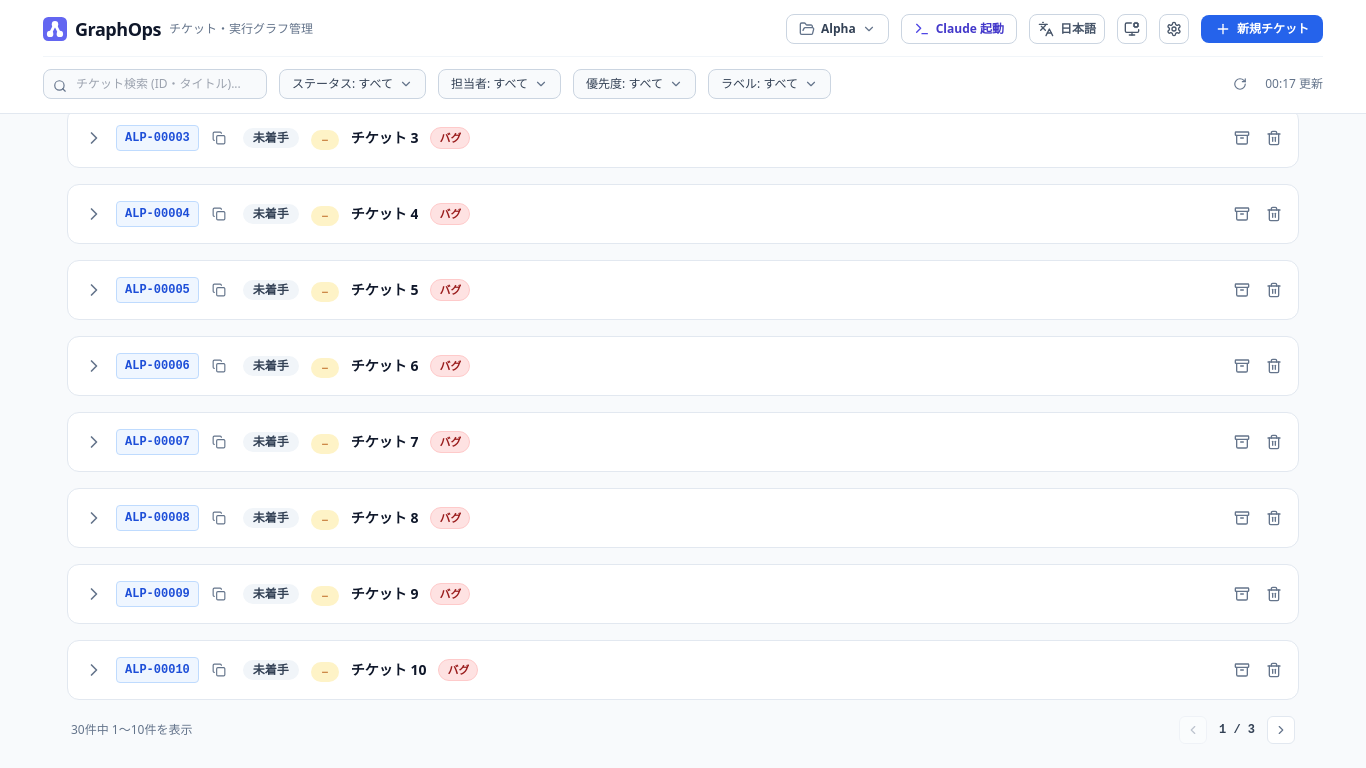
Scenario: App label filter › goes back to page 1 when the label filter changes
(page scrolled)
Click the button named "次のページ": coordinates (1281, 730) 1267,716 -> 1295,744
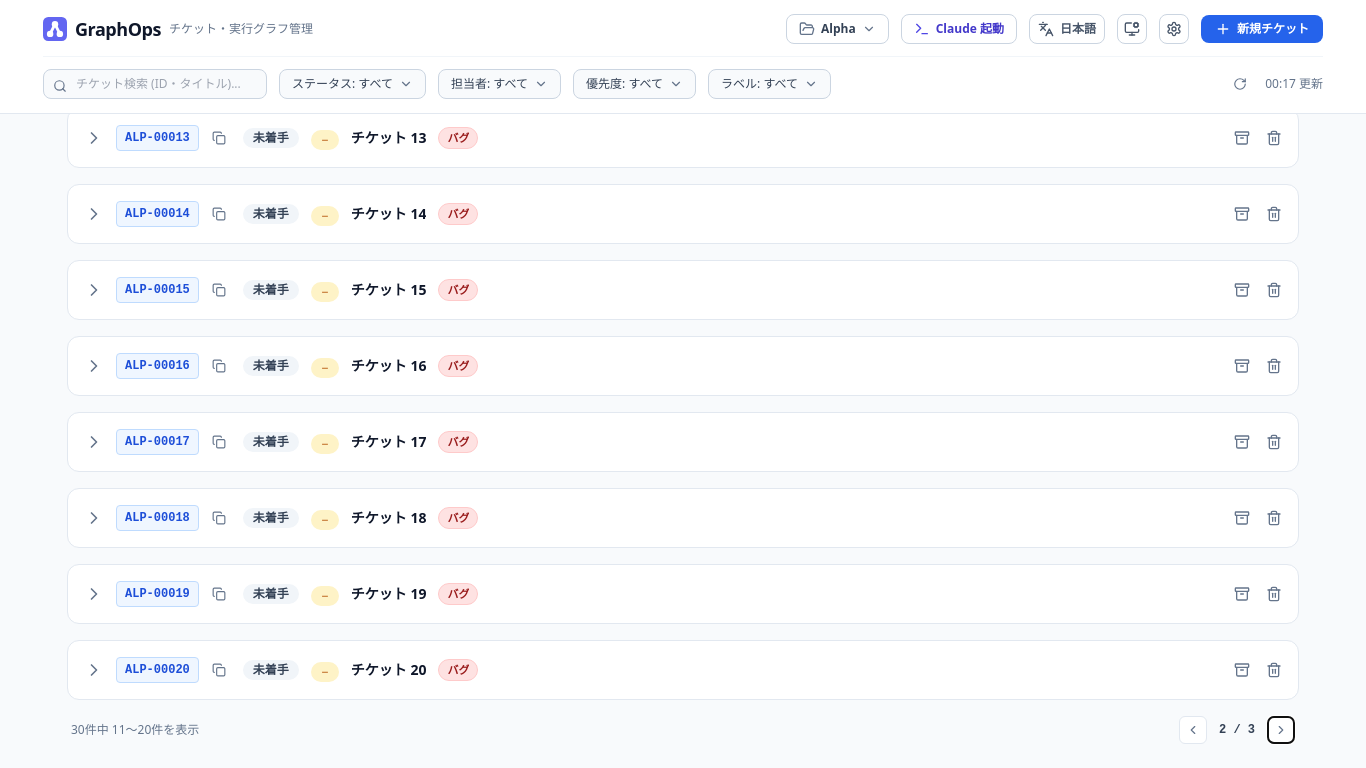
Click the button "ラベル: すべて": coordinates (770, 84) 708,69 -> 831,99
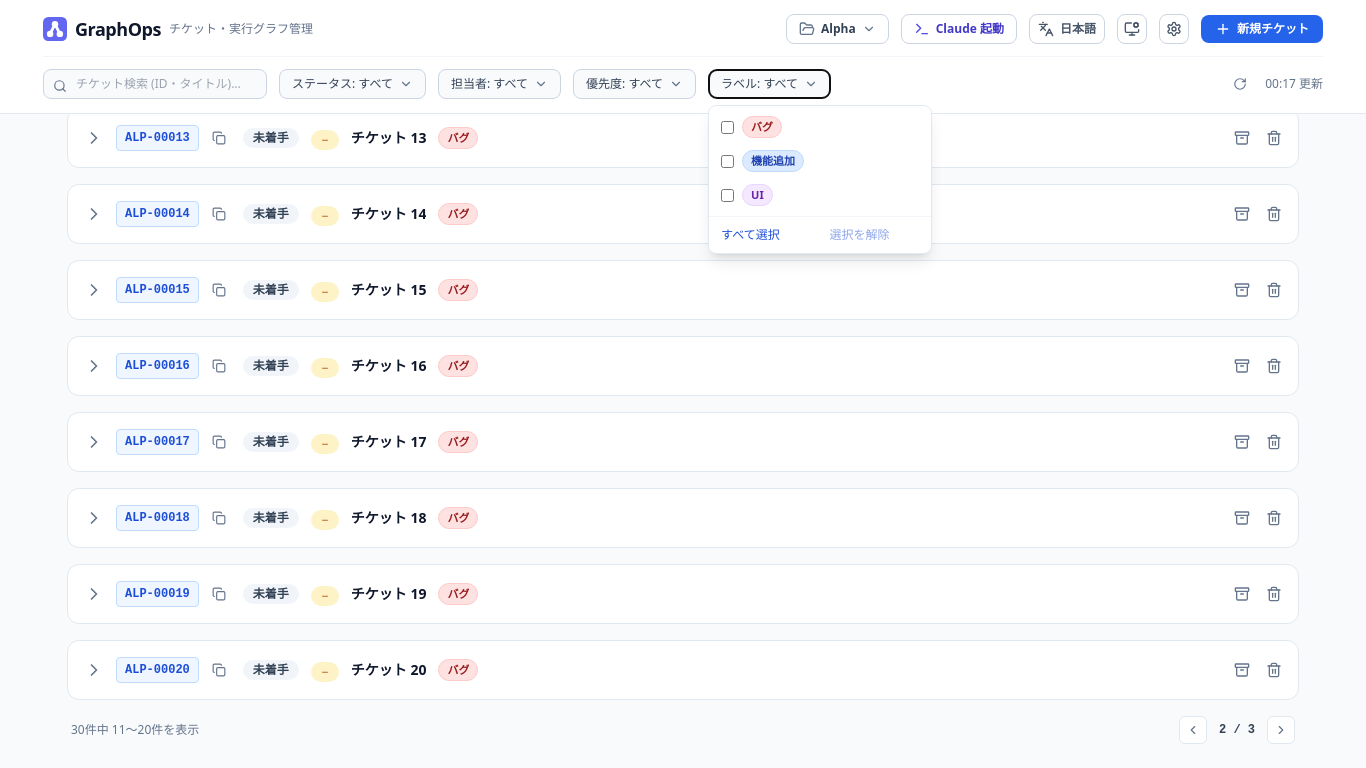
Click the checkbox labelled "バグ": coordinates (728, 127) 721,120 -> 734,134
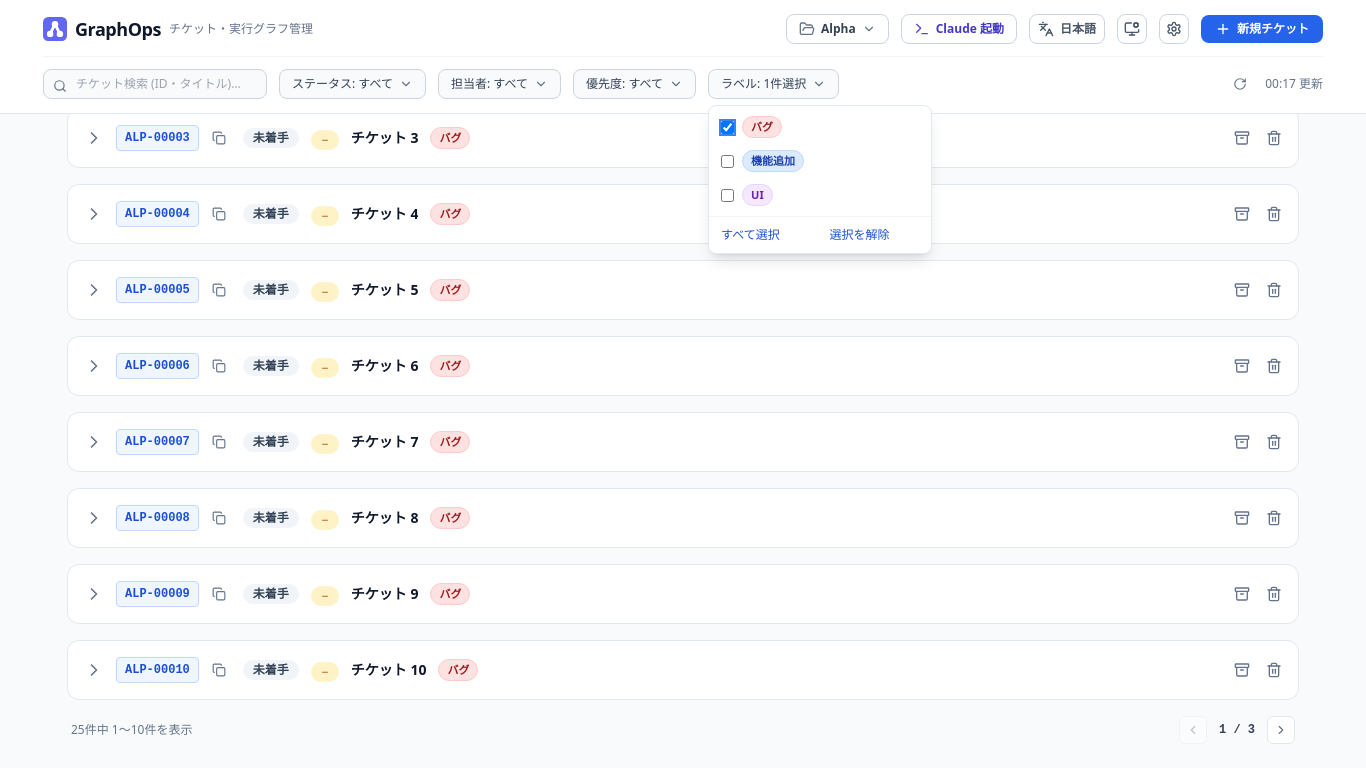
Expected: the text "1 / 3" is shown, 1219,722 -> 1255,738
